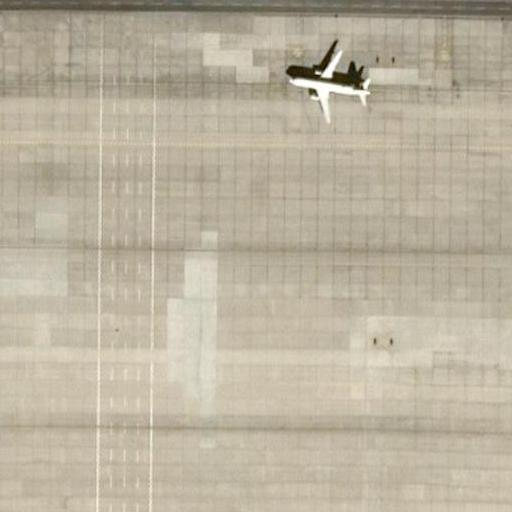Aircraft: (283, 35, 374, 120)
